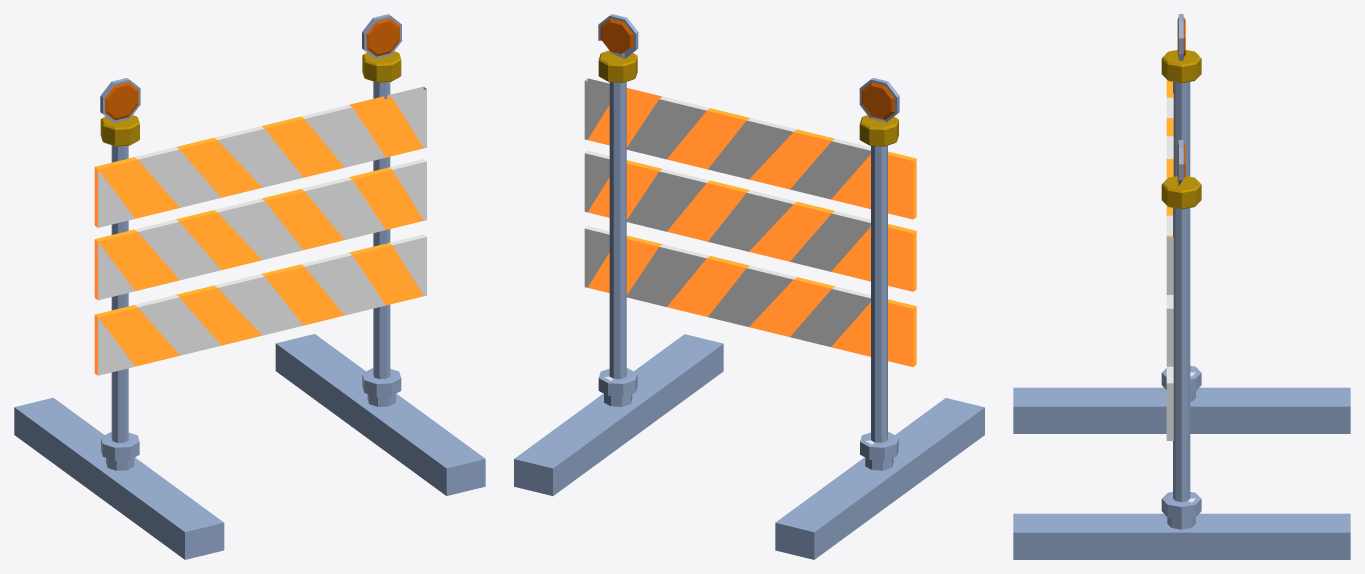
File: Barrier_3.fbx
3 renders of one model, left to right at view 1: azimuth 30°, elevation 25°; view 2: azimuth 150°, elevation 25°; view 3: azimuth 270°, elevation 25°, orthographic.
Parts seen in each view (by area): view 1: Barrier; view 2: Barrier; view 3: Barrier.
Part boxes in pixels (left/top/right/bottom): Barrier: left=14, top=14, right=485, bottom=559; Barrier: left=514, top=14, right=984, bottom=559; Barrier: left=1013, top=14, right=1350, bottom=559.
Size of the model in its own units: 2.22 by 2.66 by 2.
